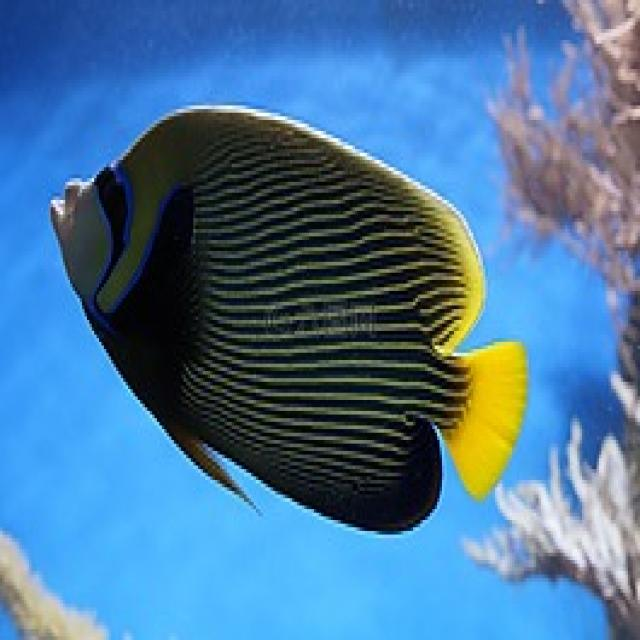AngelFish: (52, 101, 527, 534)
